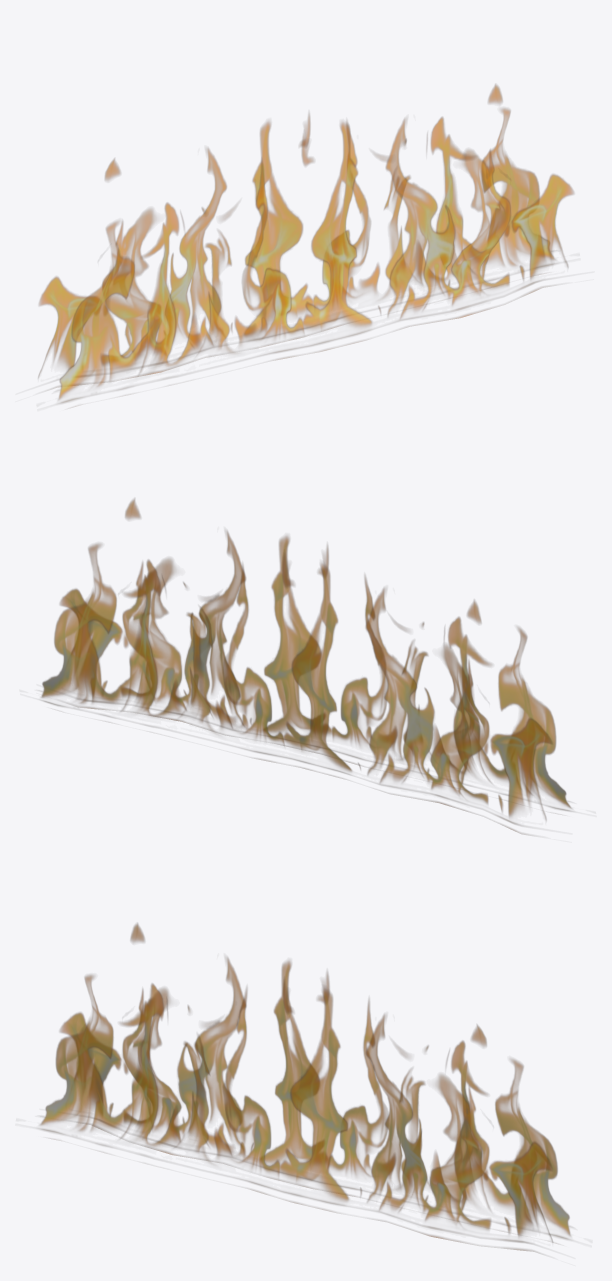
3 renders of one model, top to bottom at view 1: azimuth 30°, elevation 25°; view 2: azimuth 150°, elevation 25°; view 3: azimuth 330°, elevation 25°, orthographic.
Parts seen in each view (by area): view 1: Fire_Baked; view 2: Fire_Baked; view 3: Fire_Baked.
Boxes of the visible parts, <box> form: Fire_Baked: <box>38,84,573,403</box>; Fire_Baked: <box>41,498,572,834</box>; Fire_Baked: <box>40,923,570,1252</box>.
Bounding box in the file's own units: 0.6354 × 0.2715 × 0.0655.
Materials: 1 (1 with a texture image).
